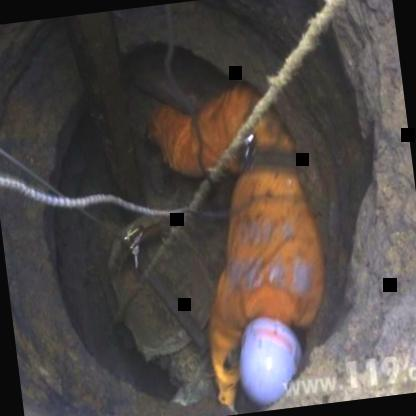helmet: (230, 308, 312, 408)
